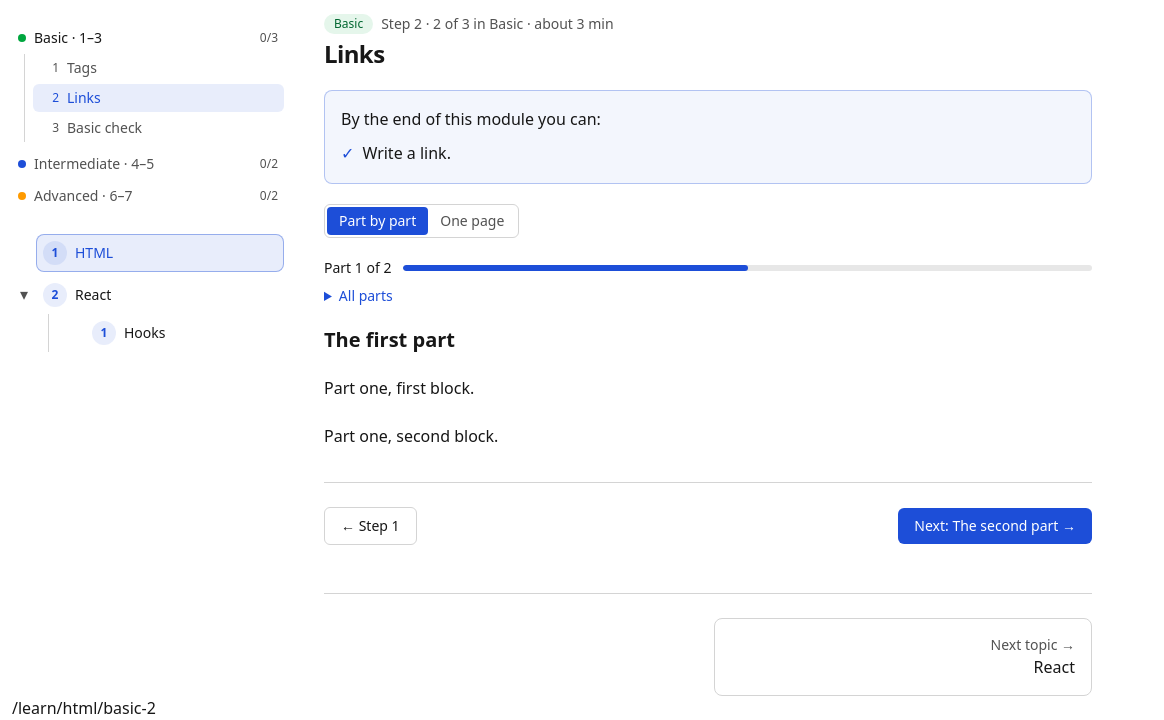
Scenario: StepPlayer › shows a module one part at a time, with its objectives first
(page scrolled)
expect the heading "The first part" is shown: met, box [324,326,455,353]
expect the element named "What you'll learn" shows "Write a link.": met, box [362,142,451,164]
Click the button "Next: The second part →". click: x=995, y=526
box: [898,508,1092,544]
(page scrolled)
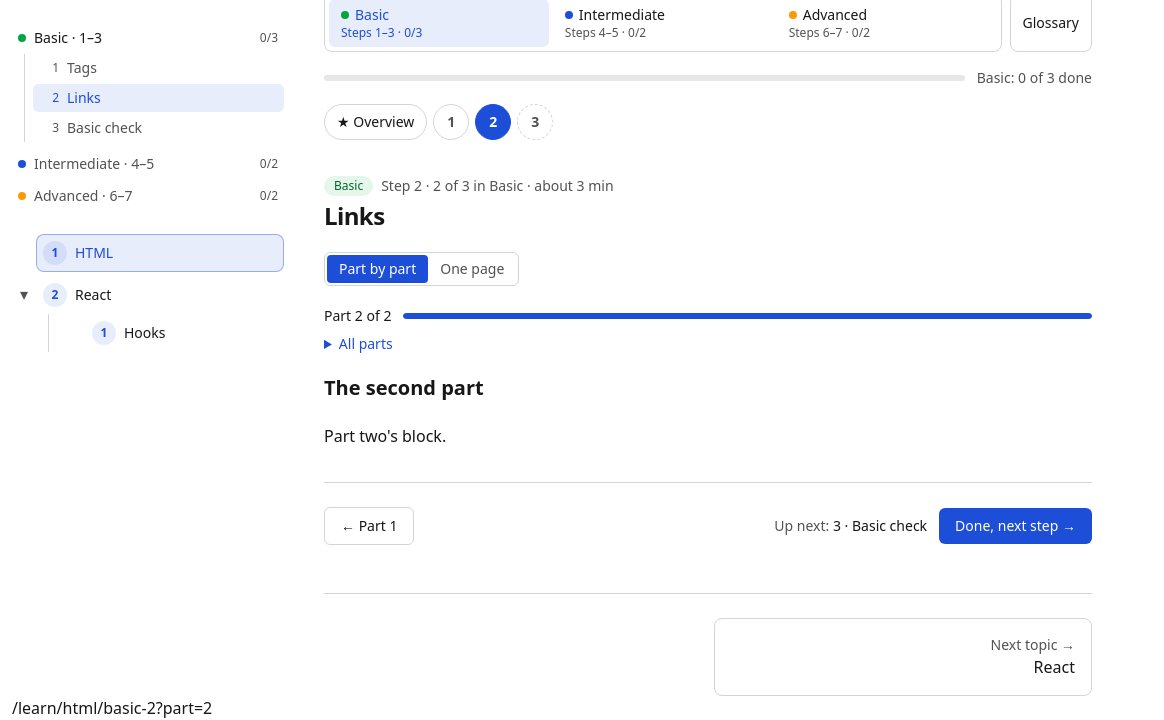
expect the text with test id "where" reads "/learn/html/basic-2?part=2": met, box [12,697,212,719]
expect the text "Part two's block." is shown: met, box [324,425,446,447]
expect the text "Part one, first block." is gone: met
